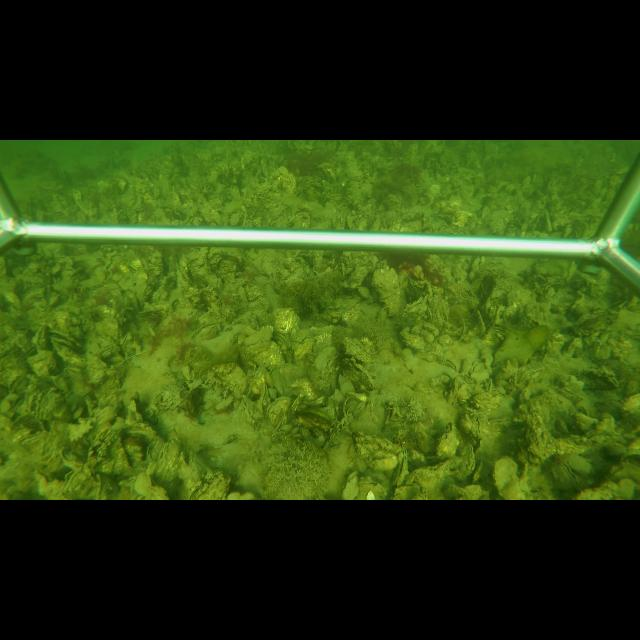Oyster-Closed: (371, 267, 404, 318), (122, 422, 159, 461), (493, 456, 525, 499), (312, 344, 339, 393), (240, 340, 284, 369), (550, 458, 580, 491), (400, 287, 429, 320), (454, 441, 476, 483), (344, 362, 375, 390), (36, 388, 63, 420), (388, 448, 408, 491), (338, 470, 358, 500), (343, 397, 365, 420), (466, 359, 485, 379), (382, 405, 396, 428)
Oyster-Open: (47, 328, 83, 351)
